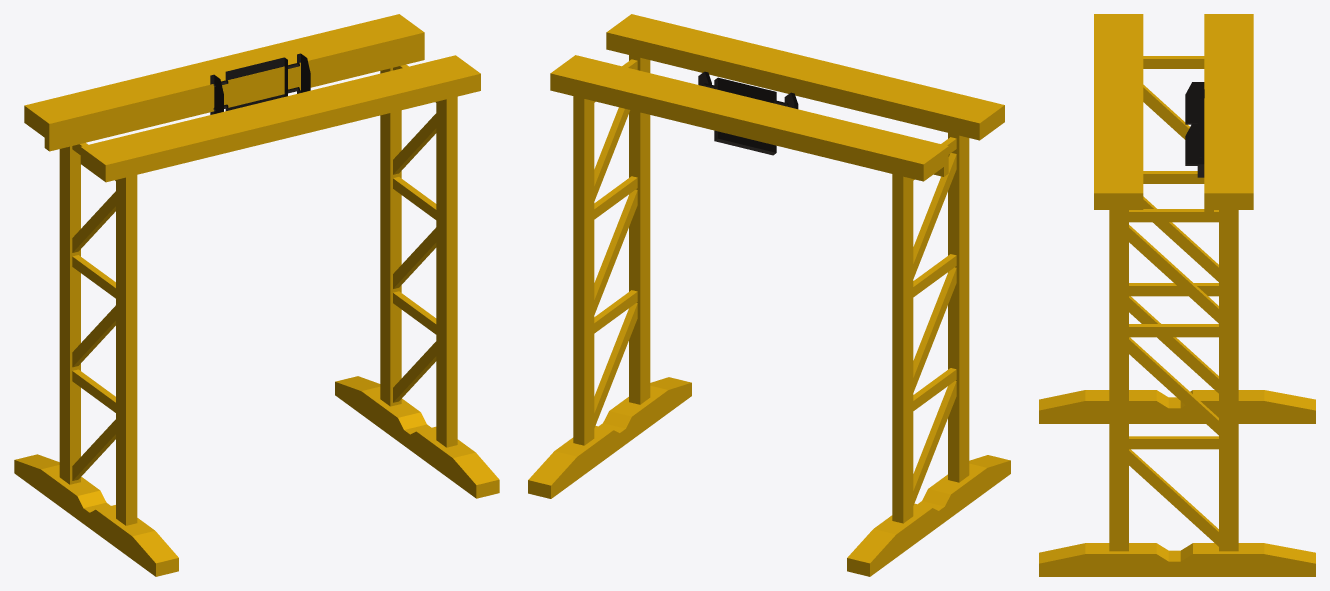
The model's file is MCrane.glb.
The picture shows the model from 3 angles, left to right: view 1: azimuth 30°, elevation 25°; view 2: azimuth 150°, elevation 25°; view 3: azimuth 270°, elevation 25°; orthographic projection. The views are drawn at different scales.
Parts seen in each view (by area): view 1: Cube.041; view 2: Cube.041; view 3: Cube.041.
Part boxes in pixels (x1=…): Cube.041: x1=14, y1=14, x2=499, y2=576; Cube.041: x1=528, y1=14, x2=1010, y2=576; Cube.041: x1=1039, y1=14, x2=1315, y2=576.
Bounding box in the file's own units: 14.1 × 14.57 × 9.21.
